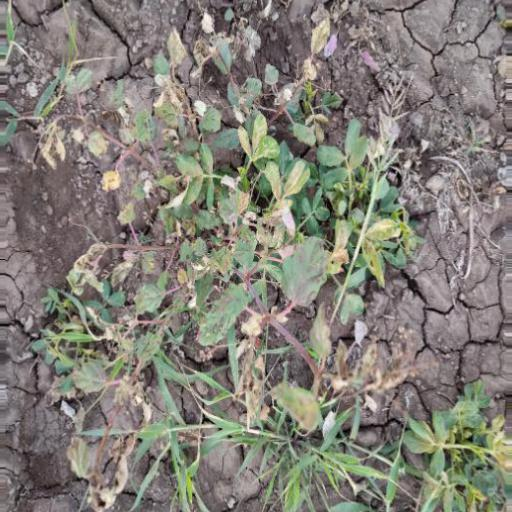weed: (78, 75, 467, 443)
